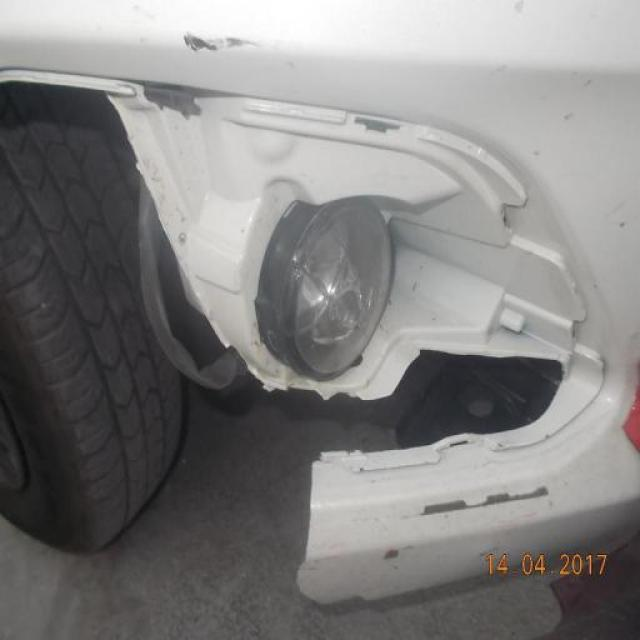crush: (120, 79, 628, 612)
scratch: (178, 23, 263, 60)
